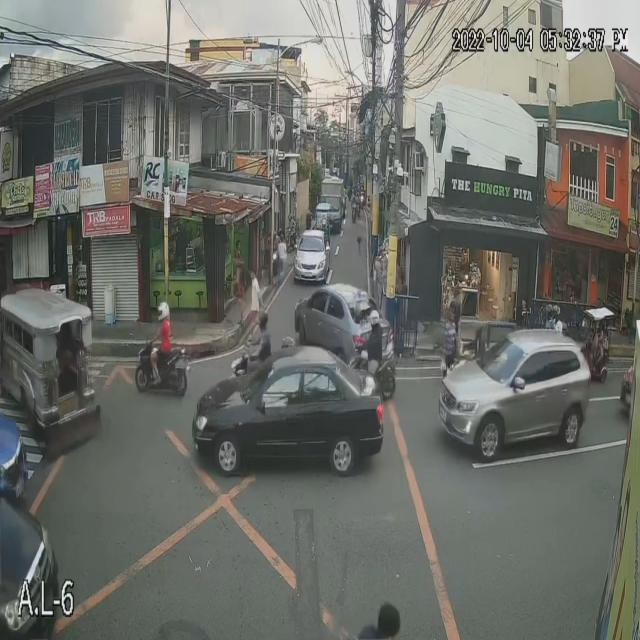Full-Faced: (154, 300, 170, 322), (367, 308, 381, 329), (254, 309, 269, 328), (544, 303, 556, 324), (551, 300, 560, 322)
